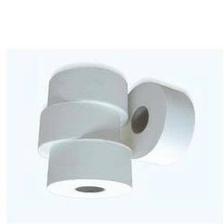tissue: (119, 76, 199, 171), (42, 134, 139, 204), (42, 63, 134, 132), (32, 97, 125, 164)
